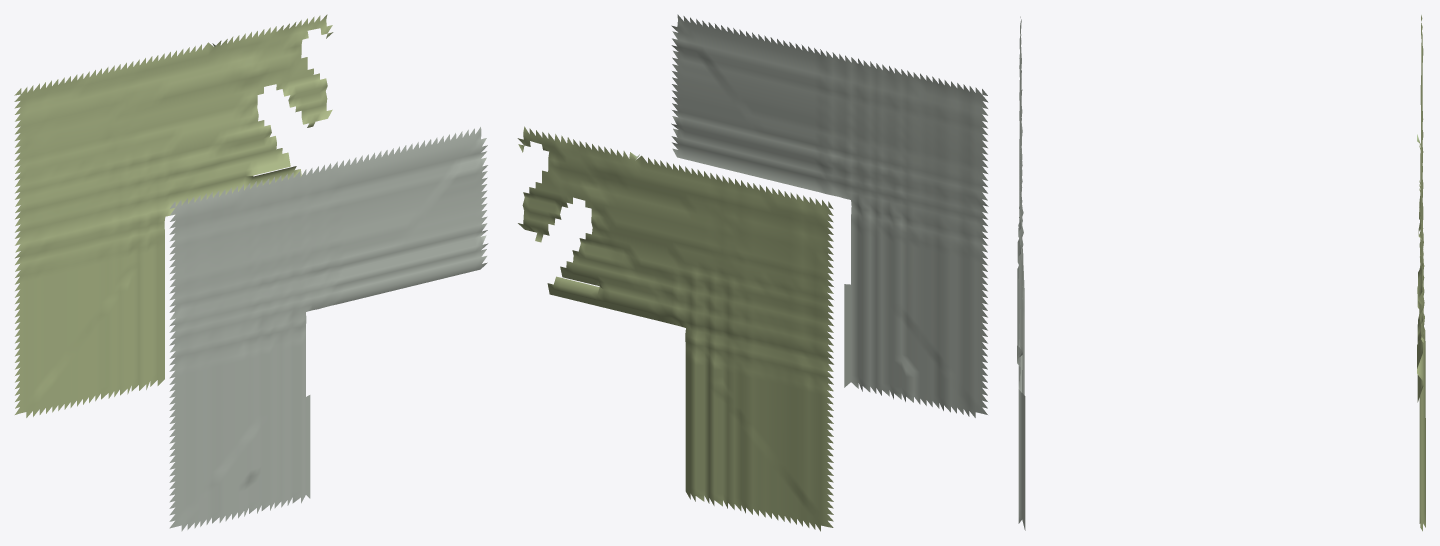
File: tile_7e4ccbd5fe0e_0_0_-1_0_lod0.glb
3 renders of one model, left to right at view 1: azimuth 30°, elevation 25°; view 2: azimuth 150°, elevation 25°; view 3: azimuth 270°, elevation 25°, orthographic. The views are drawn at different scales.
Bounding box in the file's own units: 4.08 × 4.08 × 3.51.
